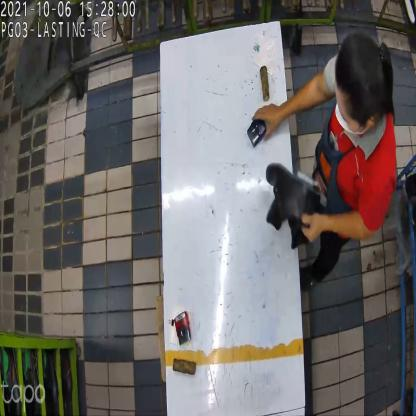shoes: (262, 160, 330, 252)
stamp: (172, 313, 195, 345), (248, 114, 267, 148)
